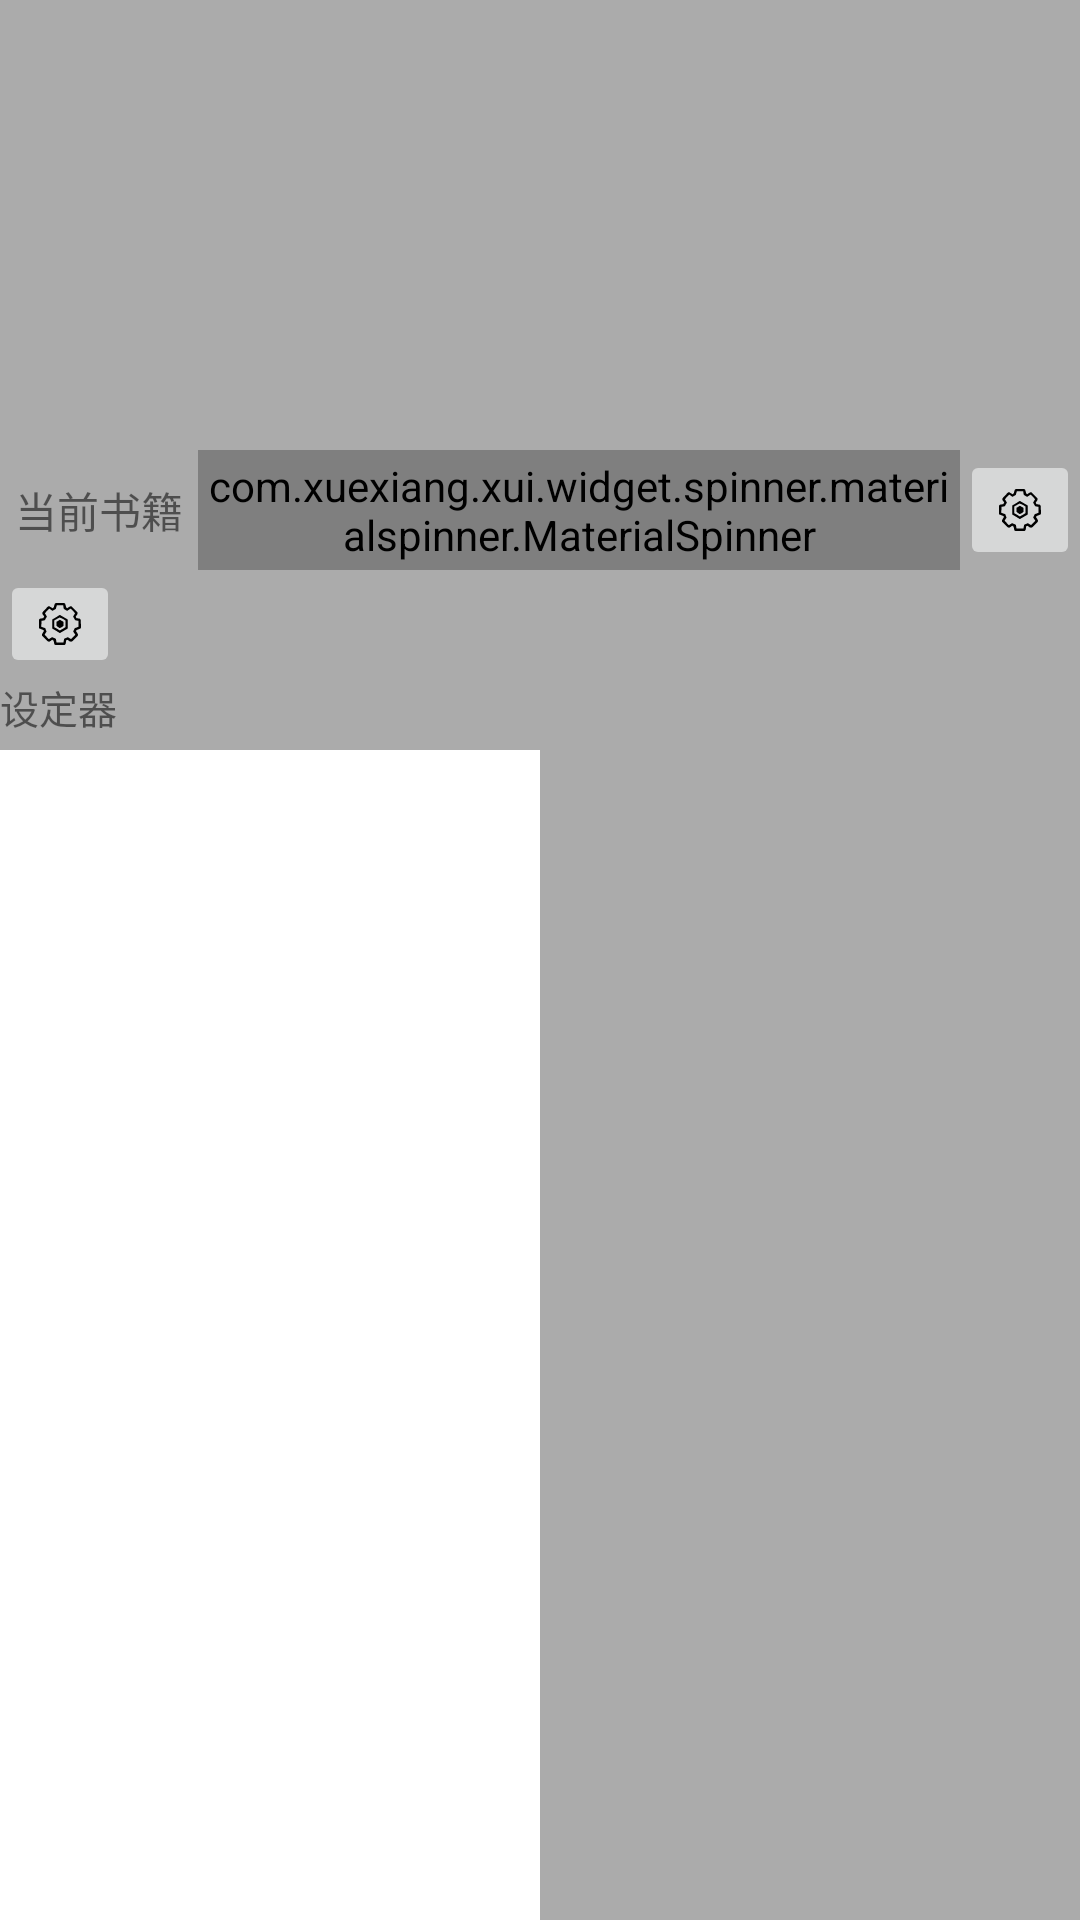

Named icons in this screenshot (1080 x 1920) and their centers, [x,y]:
setting: [1020,510], [60,624]
